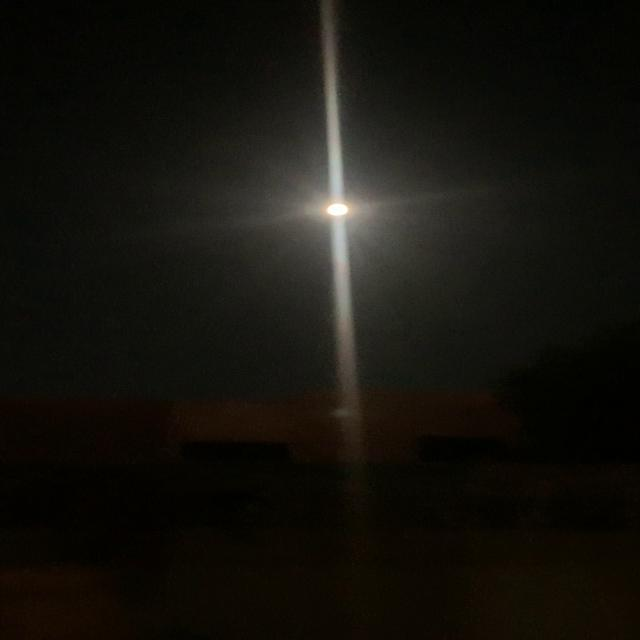moon: (310, 192, 370, 225)
